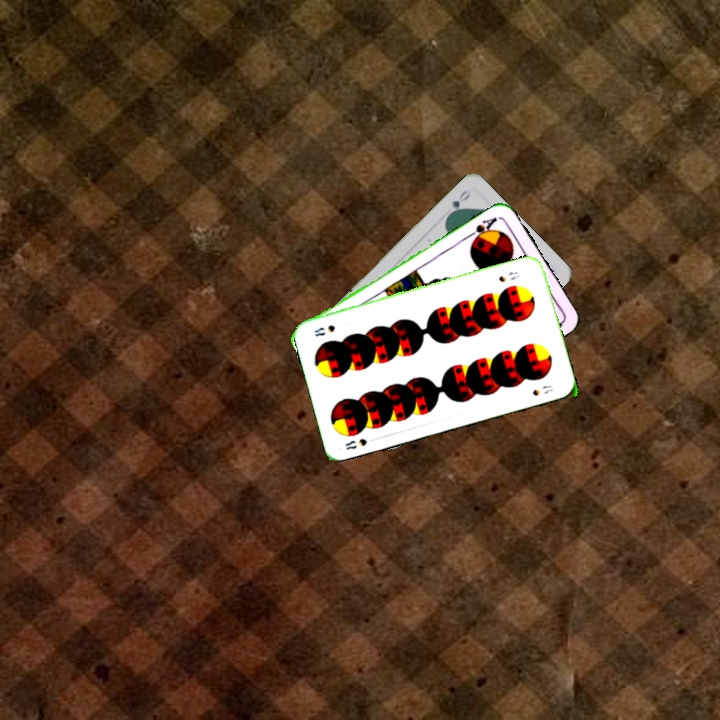GO: (443, 186, 473, 220)
S8: (341, 434, 370, 452), (494, 267, 522, 285)
SA: (464, 213, 500, 245)
